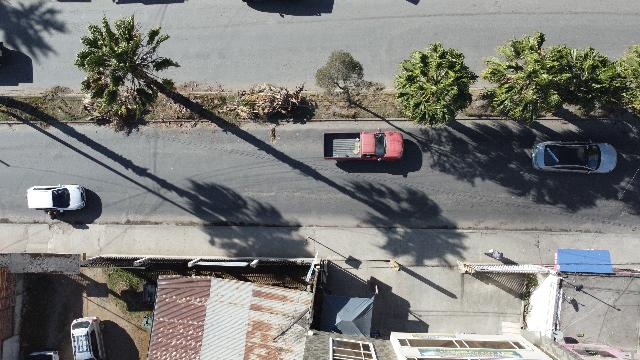Vehiculo: (531, 140, 617, 174), (322, 130, 403, 162), (26, 184, 86, 214), (70, 316, 106, 360), (142, 314, 152, 332)
